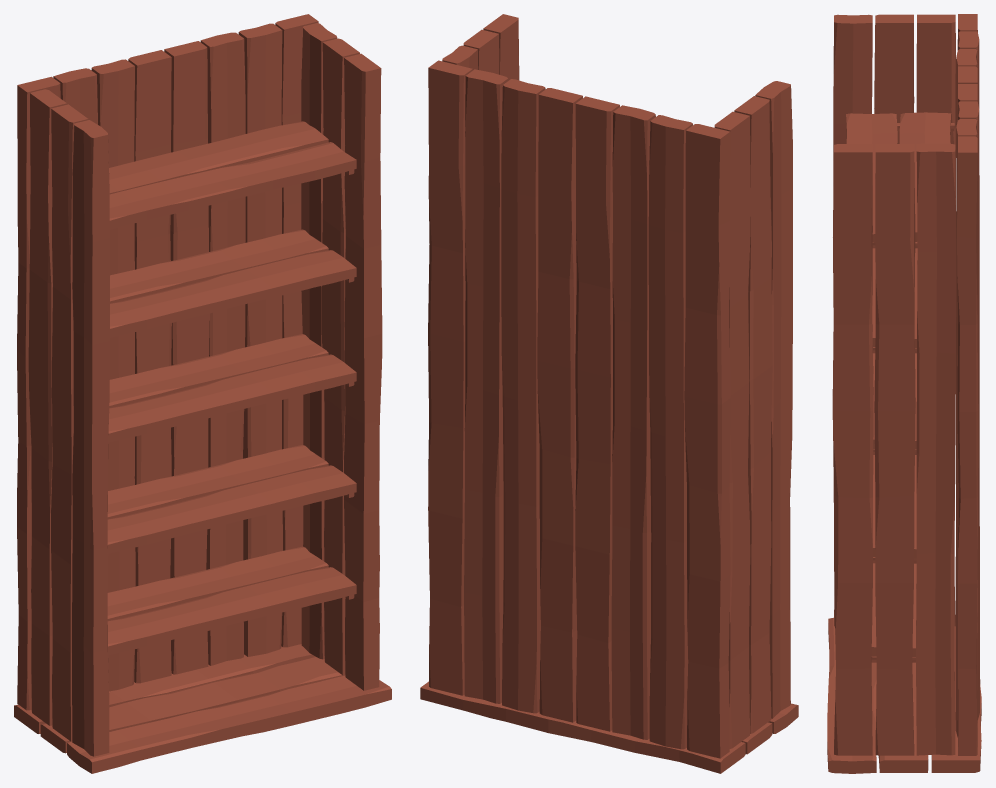
File: book case.fbx
3 views of the same model, side by side, from view 1: azimuth 30°, elevation 25°; view 2: azimuth 150°, elevation 25°; view 3: azimuth 270°, elevation 25° (orthographic). The views are drawn at different scales.
Parts seen in each view (by area): view 1: book case; view 2: book case; view 3: book case.
Boxes of the visible parts, x1,y1,x2,y2 form: book case: [14, 14, 391, 773]; book case: [420, 14, 798, 773]; book case: [827, 14, 981, 773].
Bounding box in the file's own units: 86.63 × 175 × 39.62.
